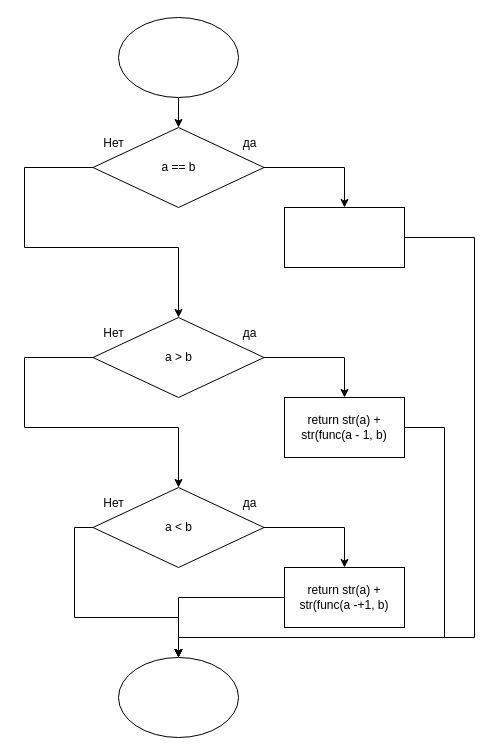
Some shapes in this 500 by 755 pixel diagram are drawn without their labels. The centre of each missing label's shape, as x and y in pixels:
"func(a, b)" belongs at (178,57).
"return str(a)" belongs at (344,237).
"Конец" belongs at (178,697).
